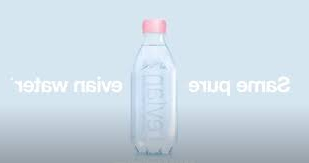plastic water bottle: (128, 17, 180, 158)
